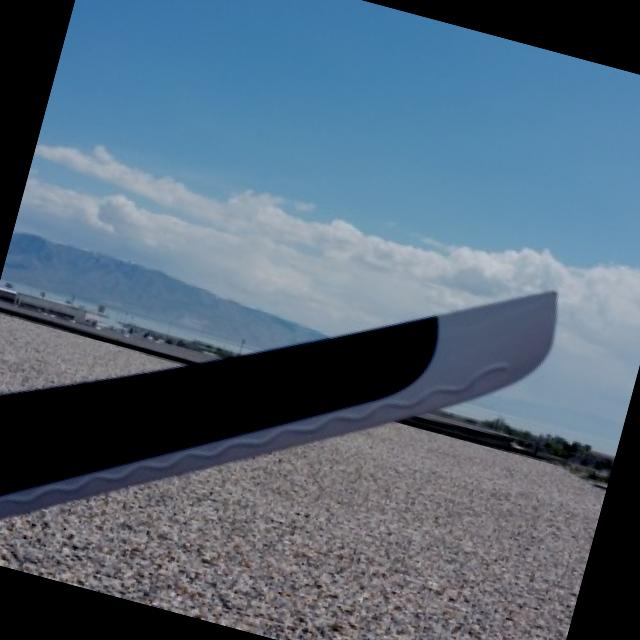healthy: (0, 290, 558, 516)
